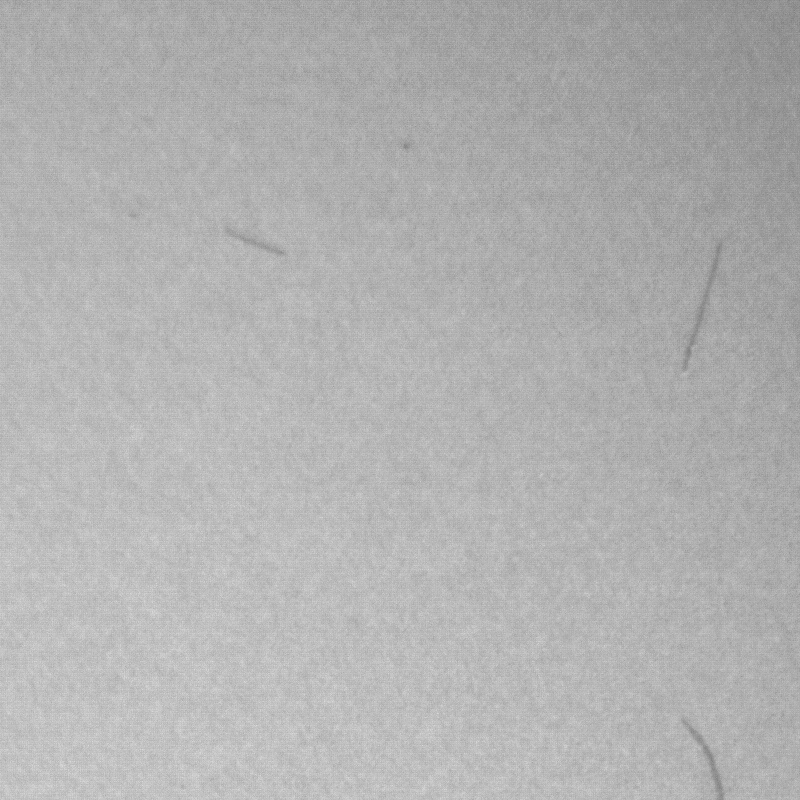defect: (681, 246, 722, 376), (678, 719, 725, 795), (224, 233, 290, 257), (400, 141, 420, 155)
